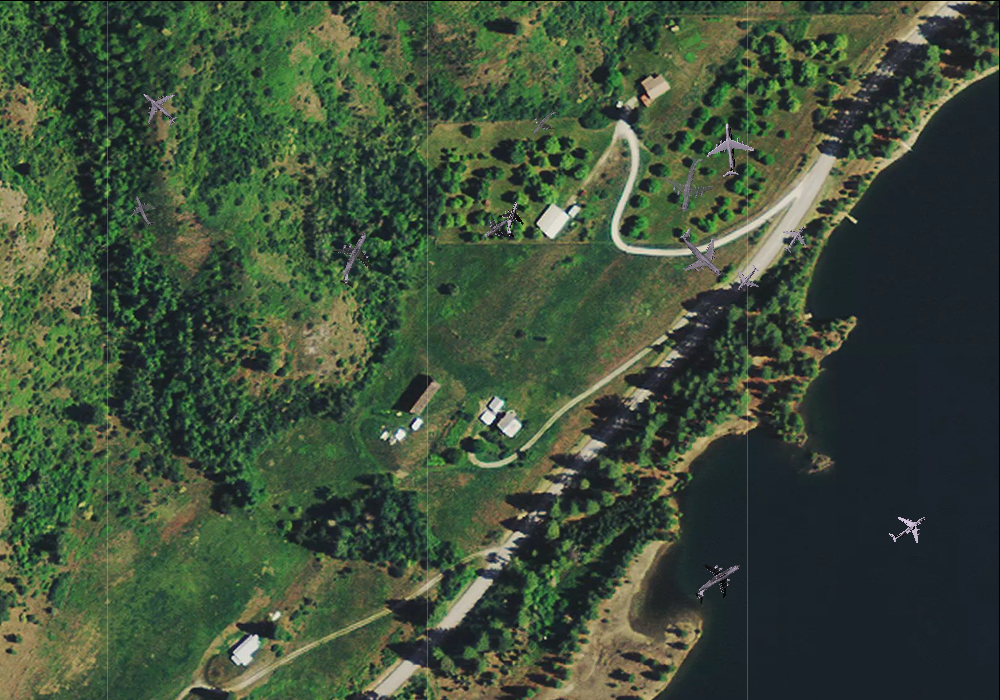plane: (663, 214, 742, 293), (318, 221, 391, 295), (682, 547, 754, 616), (657, 150, 723, 218), (129, 78, 188, 136), (701, 120, 758, 179), (881, 501, 936, 555), (475, 204, 522, 250), (522, 99, 566, 143), (492, 196, 533, 240), (774, 217, 816, 259), (726, 257, 767, 299), (123, 189, 163, 231)
